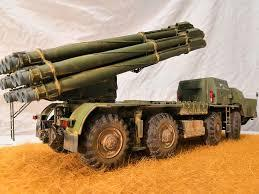MIL_SAM_TEL: (0, 21, 256, 171)
